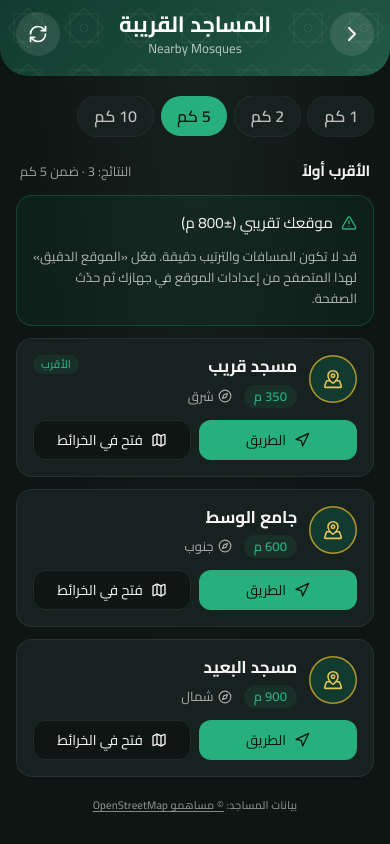
Scenario: Nearby Mosques — how precise the user's location is › a better fix on refresh clears the warning
expect the message with test id "mosques-approximate" is shown: met, box [16,194,374,326]
Click the button named "تحديث": x=38, y=34 [16,12,60,56]
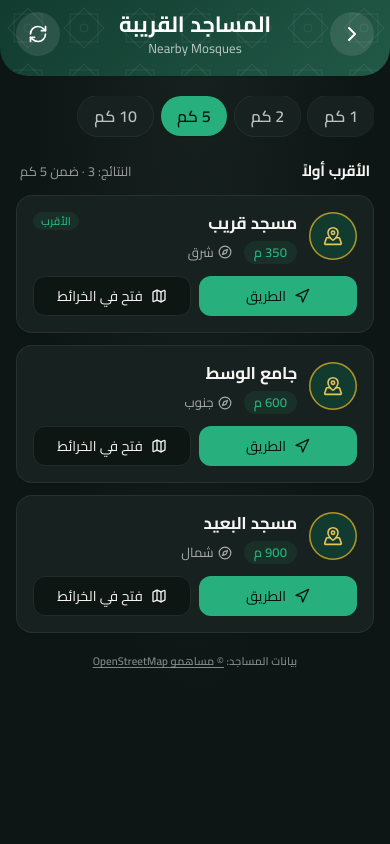
expect the message with test id "mosques-approximate" is gone: met
